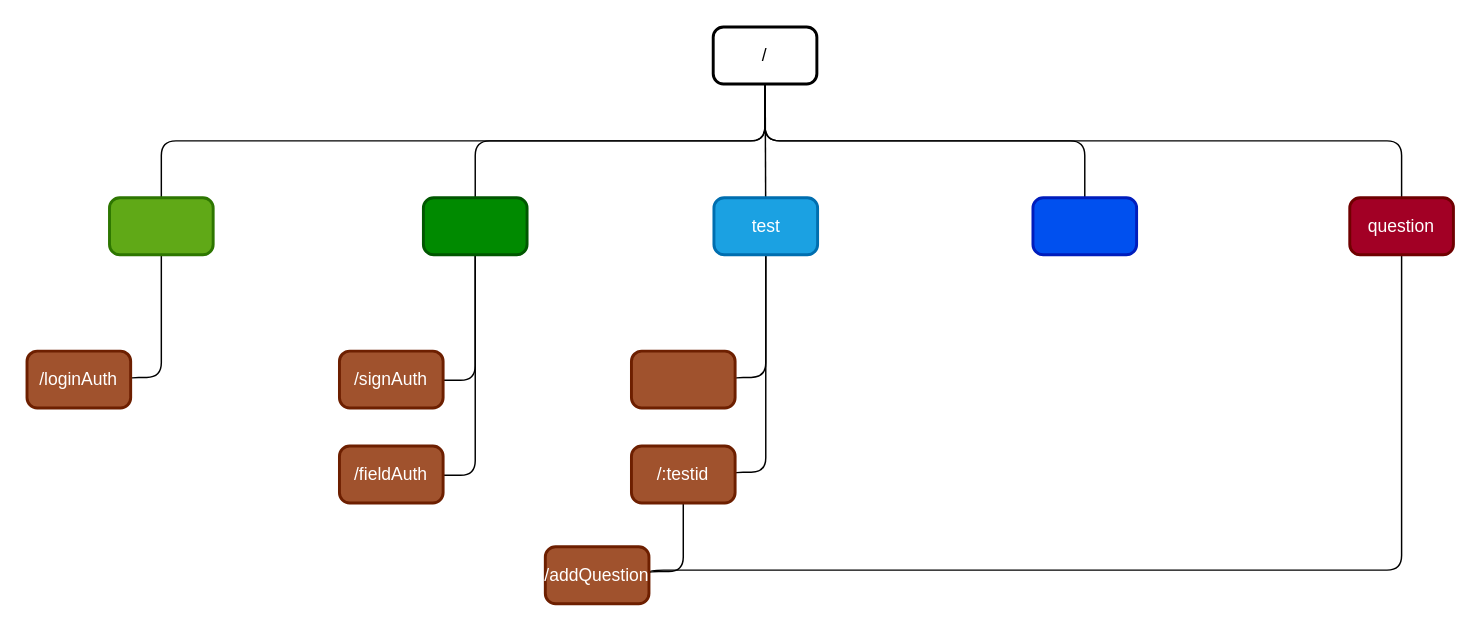
Some shapes in this 1479 by 629 pixel diagram are drawn without their labels. The box of each missing label's shape, as (x1, y1, x2, y2) in pixels:
/getAllTest: (629, 349, 736, 409)
answere: (1031, 196, 1137, 256)
login: (107, 196, 214, 256)
signup: (421, 196, 528, 256)
